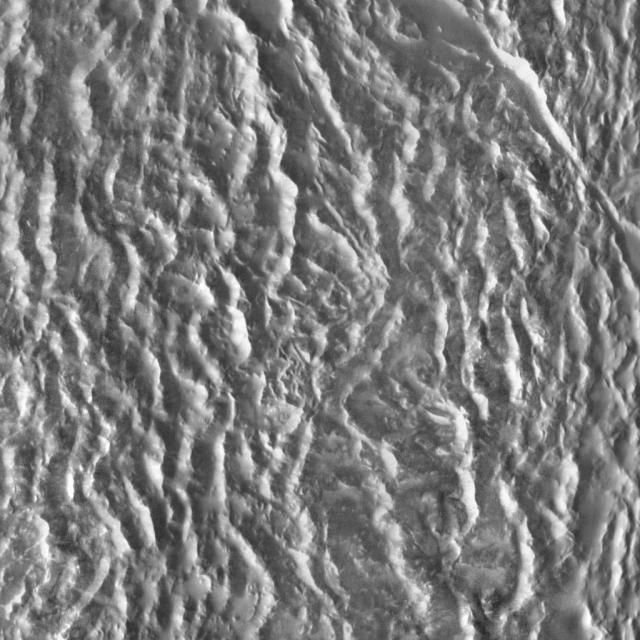crater: (565, 202, 577, 214)
